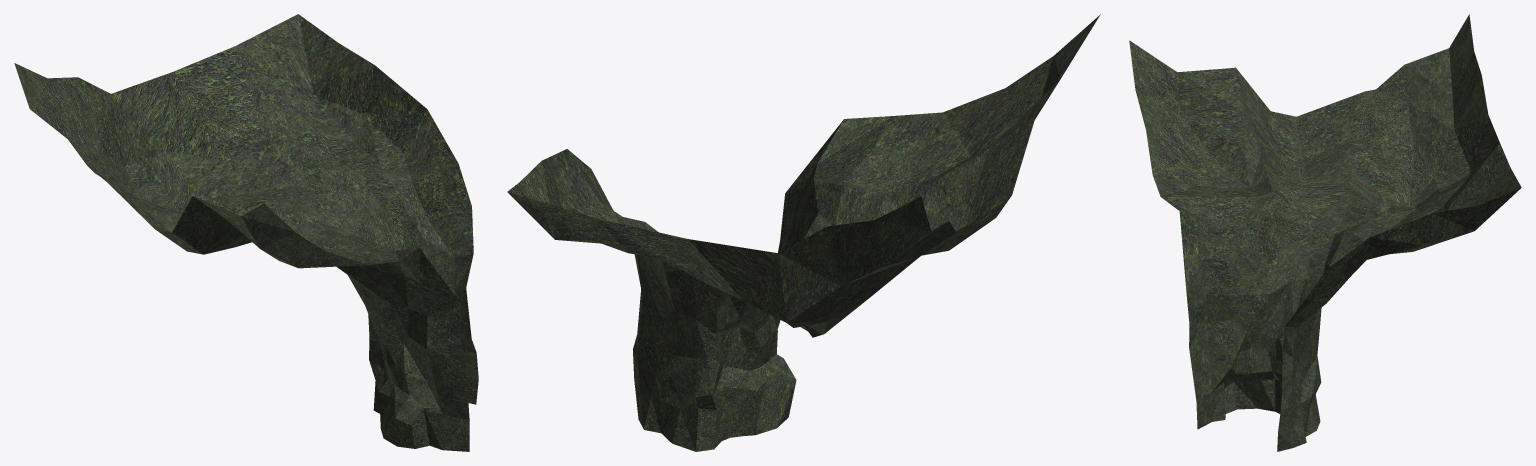
Rendered from cliff_coner_01.fbx.
The picture shows the model from 3 angles, left to right: view 1: azimuth 30°, elevation 25°; view 2: azimuth 150°, elevation 25°; view 3: azimuth 270°, elevation 25°; orthographic projection. The views are drawn at different scales.
Parts seen in each view (by area): view 1: cliff_coner_01; view 2: cliff_coner_01; view 3: cliff_coner_01.
Boxes of the visible parts, bbox=[...] form: cliff_coner_01: bbox=[14, 14, 478, 451]; cliff_coner_01: bbox=[507, 14, 1100, 451]; cliff_coner_01: bbox=[1129, 14, 1521, 451].
Bounding box in the file's own units: 99.55 × 90.83 × 110.
